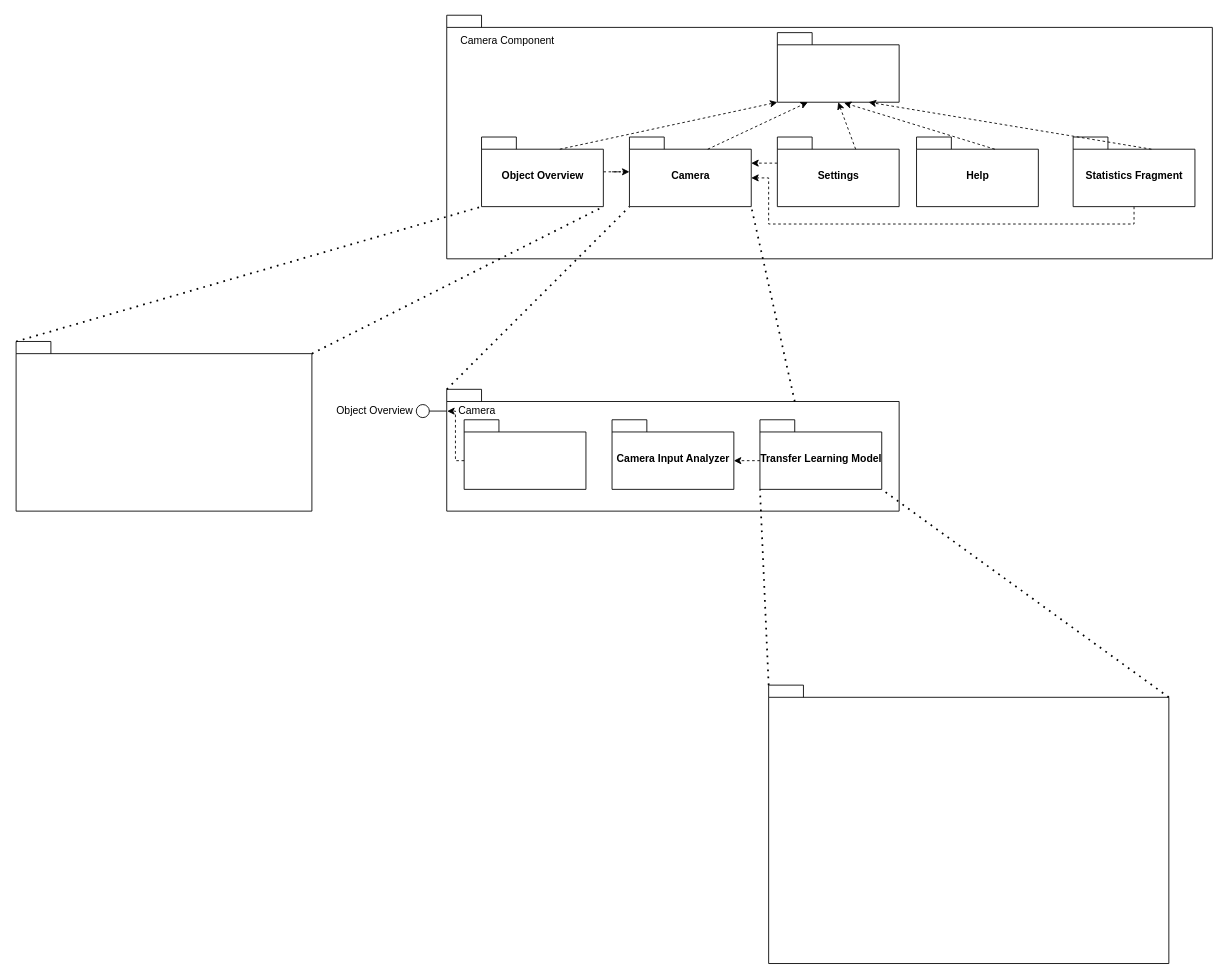
Image size: 1228x979. Some labels were removed from this diagram. Here are the shapes that lost their labels. From the top down, the box of each, then its label:
(776, 32, 899, 102): Camera Activity
(463, 419, 586, 489): Database Helper
(768, 684, 1169, 964): Transfer Learning Component
